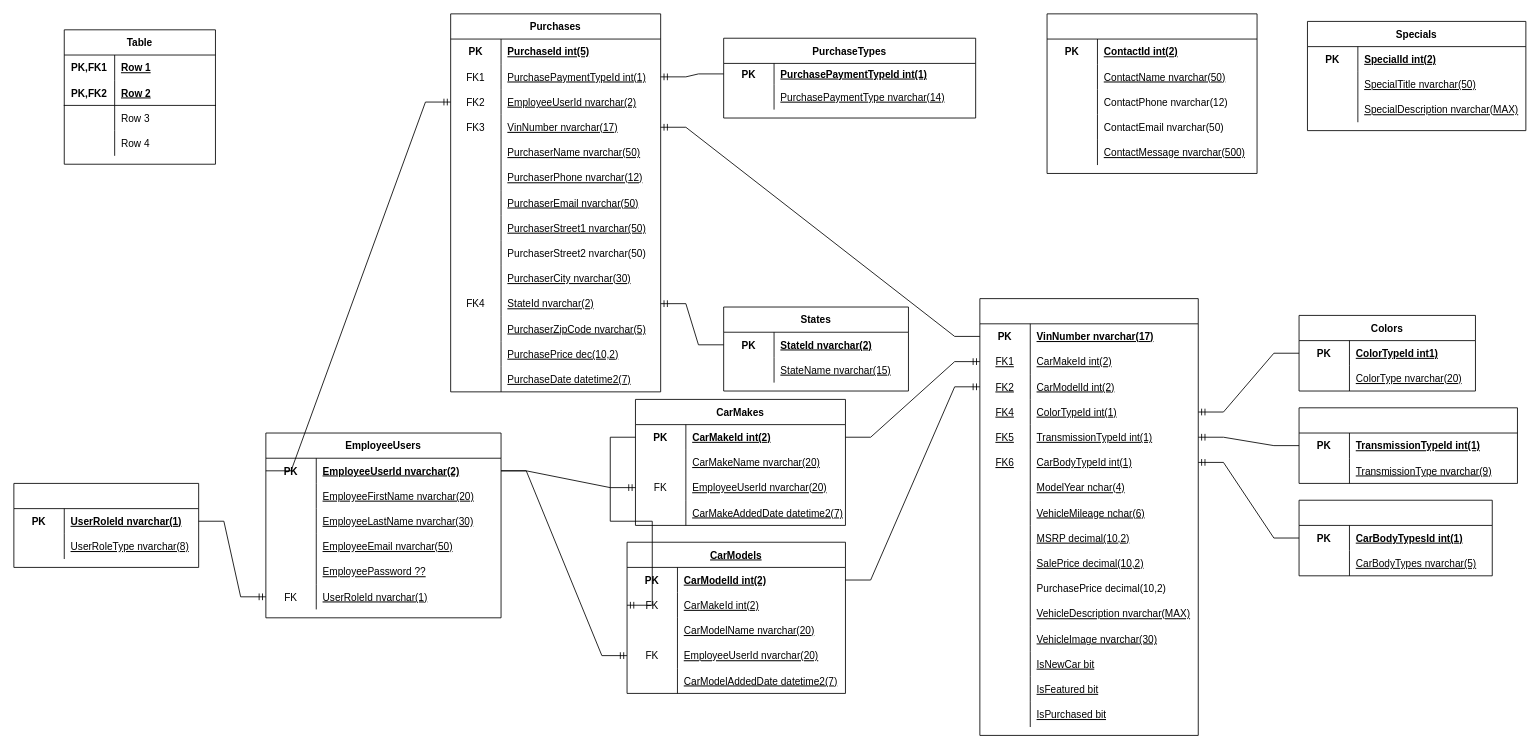
This 1540x749 diagram has some shape labels left out. Here are the shapes that lost their labels. From the top down, the box of each, then its label:
(1046, 13, 1257, 173): Contacts
(1298, 407, 1517, 483): Transmissions
(13, 483, 199, 567): UserRoles
(979, 298, 1198, 735): Vehicles
(1298, 499, 1492, 576): CarBodies
